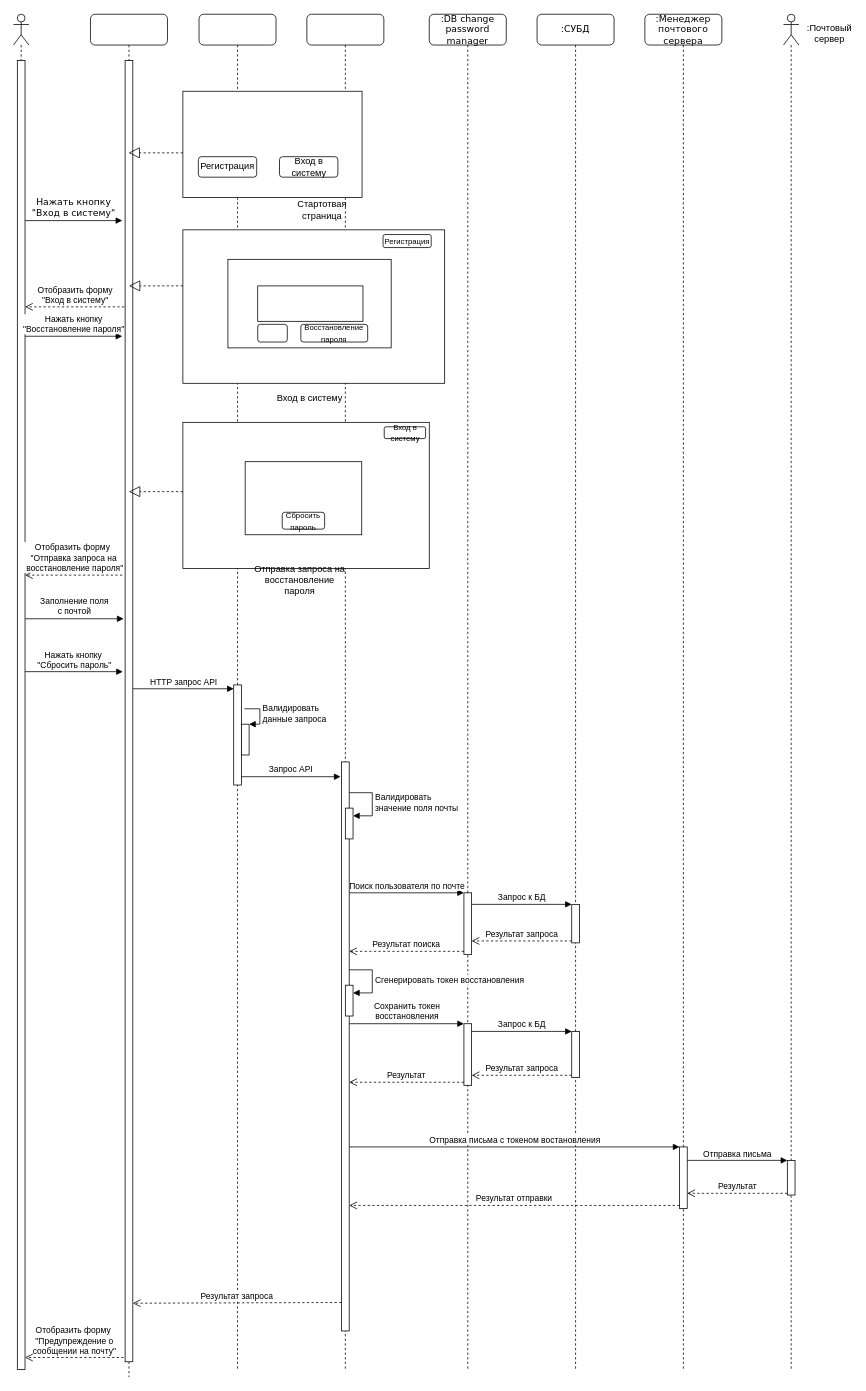
Image size: 866x1391. Some labels were removed from this diagram. The box of each missing label's shape, as (x1, y1, x2, y2) in pixels:
:API-Gateway: (198, 13, 276, 1369)
:Change-password-Handler: (306, 13, 384, 1369)
:GUI: (90, 13, 167, 1377)
Вход: (257, 324, 287, 342)
Логин для сброса пароля: (244, 461, 362, 535)
Поля для входа: почта, пароль: (257, 285, 363, 321)
